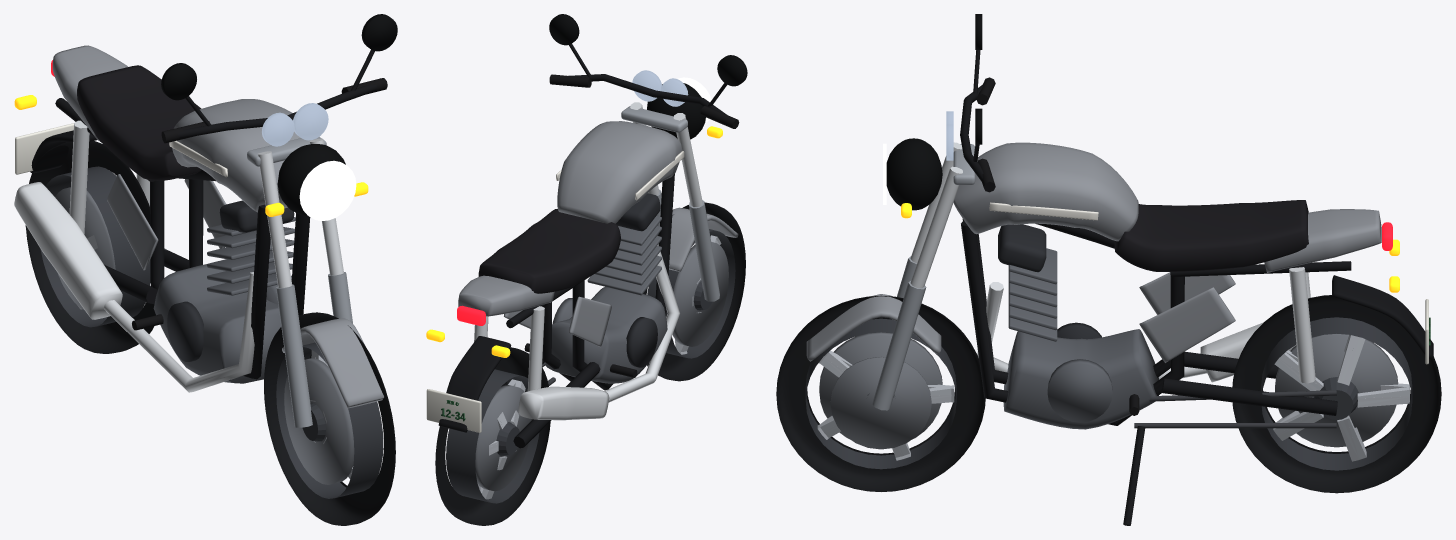
The model's file is bike_moto.glb.
3 views of the same model, side by side, from view 1: azimuth 30°, elevation 25°; view 2: azimuth 150°, elevation 25°; view 3: azimuth 270°, elevation 25° (orthographic). The views are drawn at different scales.
Parts seen in each view (by area): view 1: seat, crankcase, wheel_F_tyre, muffler, tank, wheel_R_tyre, wheel_F_disc, wheel_F_barrel, wheel_R_barrel, frontFender, downtube.001, header (+30 smaller); view 2: tank, seat, crankcase, wheel_R_tyre, wheel_R_barrel, wheel_F_disc, wheel_R_disc, wheel_F_tyre, muffler, tailCowl, rearFender, header (+32 smaller); view 3: wheel_R_tyre, wheel_F_tyre, tank, seat, crankcase, discF, wheel_R_disc, wheel_R_barrel, tailCowl, sideCoverL, downtube, wheel_R_spokes (+24 smaller).
Part boxes in pixels (x1=…): seat: x1=77, y1=65, x2=201, y2=180; crankcase: x1=153, y1=264, x2=281, y2=383; wheel_F_tyre: x1=264, y1=312, x2=395, y2=525; muffler: x1=14, y1=182, x2=122, y2=319; tank: x1=172, y1=99, x2=300, y2=212; wheel_R_tyre: x1=25, y1=141, x2=155, y2=353; wheel_F_disc: x1=284, y1=358, x2=354, y2=484; wheel_F_barrel: x1=276, y1=342, x2=383, y2=498; wheel_R_barrel: x1=40, y1=166, x2=150, y2=327; frontFender: x1=282, y1=318, x2=383, y2=408; downtube.001: x1=150, y1=180, x2=270, y2=379; header: x1=104, y1=272, x2=254, y2=392; tank: x1=557, y1=121, x2=681, y2=223; seat: x1=478, y1=209, x2=620, y2=293; crankcase: x1=545, y1=286, x2=667, y2=383; wheel_R_tyre: x1=435, y1=347, x2=550, y2=525; wheel_R_barrel: x1=446, y1=369, x2=539, y2=503; wheel_F_disc: x1=672, y1=242, x2=728, y2=346; wheel_R_disc: x1=475, y1=385, x2=531, y2=491; wheel_F_tyre: x1=643, y1=202, x2=745, y2=381; muffler: x1=518, y1=386, x2=609, y2=420; tailCowl: x1=458, y1=275, x2=554, y2=316; rearFender: x1=438, y1=336, x2=511, y2=432; header: x1=604, y1=244, x2=679, y2=402; wheel_R_tyre: x1=1232, y1=295, x2=1441, y2=493; wheel_F_tyre: x1=776, y1=295, x2=985, y2=491; tank: x1=953, y1=142, x2=1138, y2=241; seat: x1=1114, y1=200, x2=1308, y2=271; crankcase: x1=1003, y1=329, x2=1158, y2=429; discF: x1=830, y1=357, x2=931, y2=449; wheel_R_disc: x1=1275, y1=334, x2=1398, y2=447; wheel_R_barrel: x1=1261, y1=317, x2=1412, y2=470; tailCowl: x1=1264, y1=209, x2=1381, y2=272; sideCoverL: x1=1139, y1=287, x2=1235, y2=362; downtube: x1=961, y1=221, x2=1184, y2=425; wheel_R_spokes: x1=1273, y1=335, x2=1409, y2=461.
Size of the model in its own units: 0.72 by 1.3 by 1.84.
